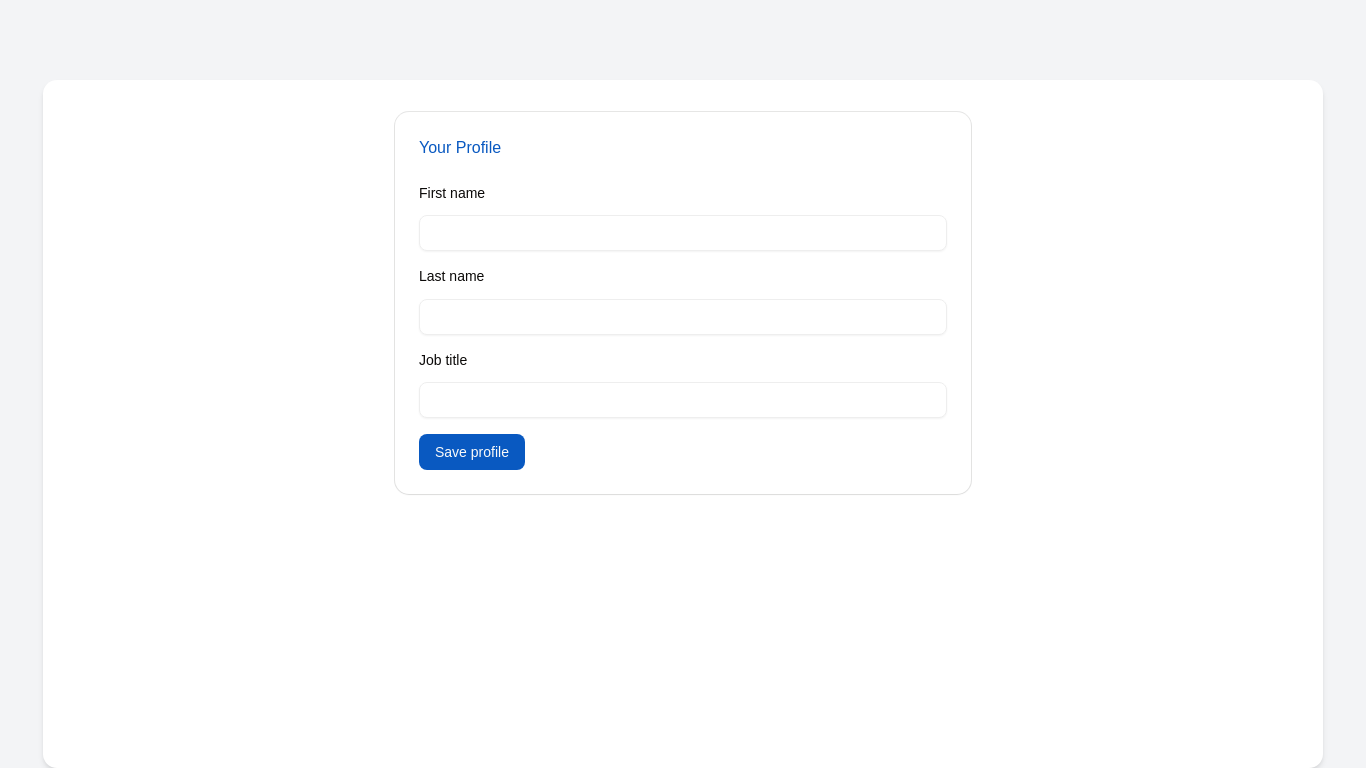
Test: ProfilePage › shows validation errors when required fields are empty
Click the button "Save profile" at (472, 452), box [419,434,525,470]
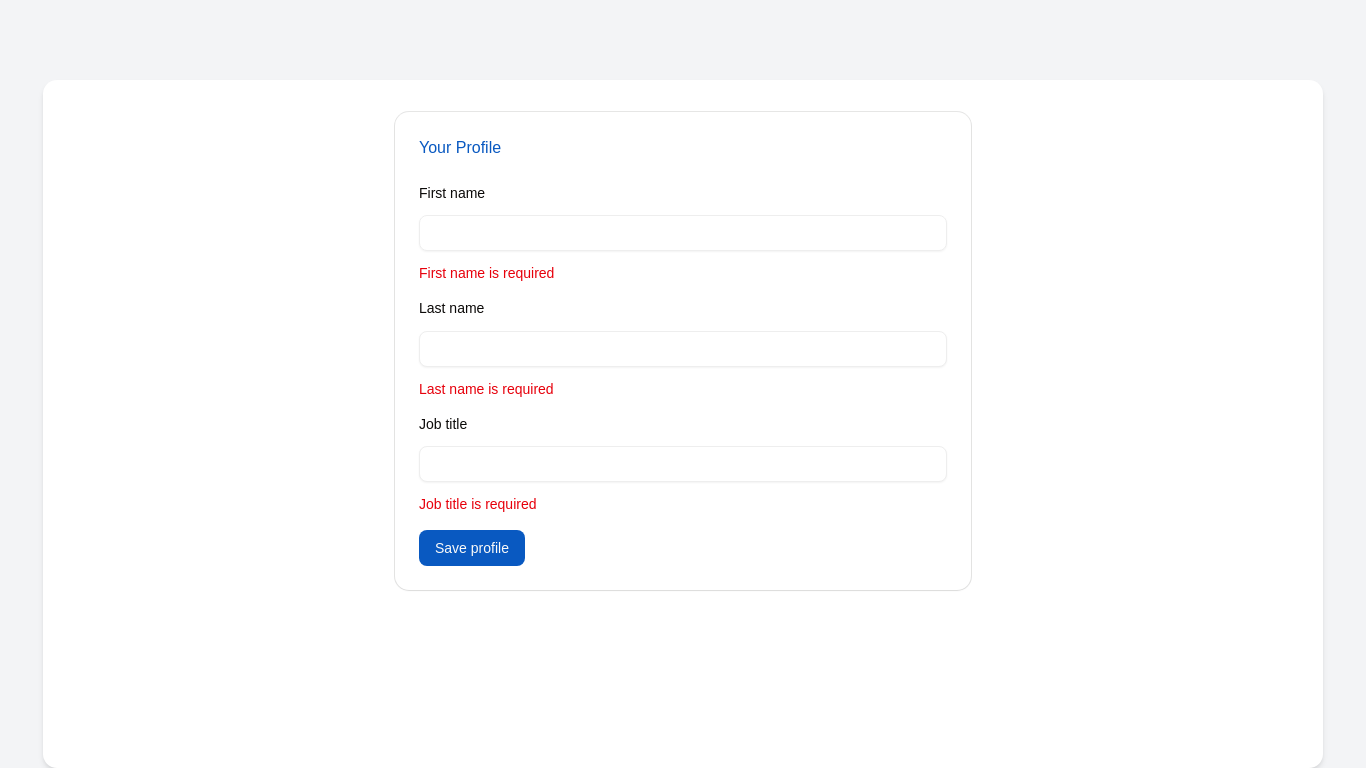
Expected: the text "First name is required" is shown, [419,265,554,281]
Expected: the text "Last name is required" is shown, [419,380,554,396]
Expected: the text "Job title is required" is shown, [419,496,536,512]
